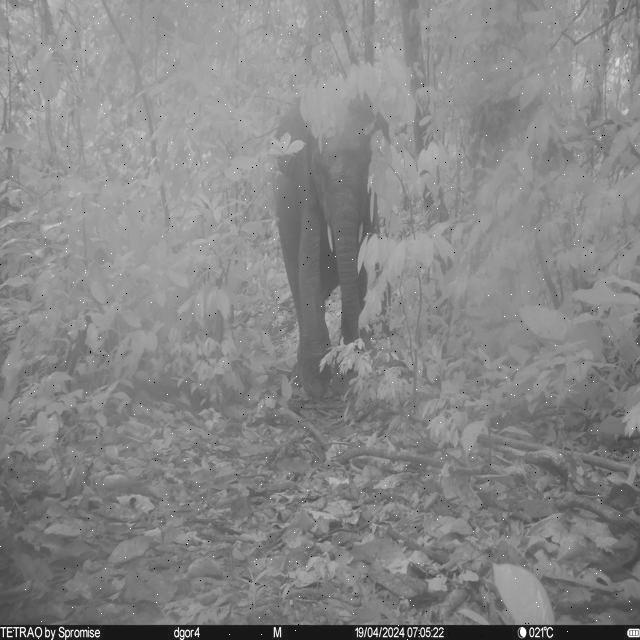ear: (274, 100, 318, 190)
elephant: (274, 80, 396, 404)
tusk: (355, 222, 366, 248), (326, 225, 336, 251)
